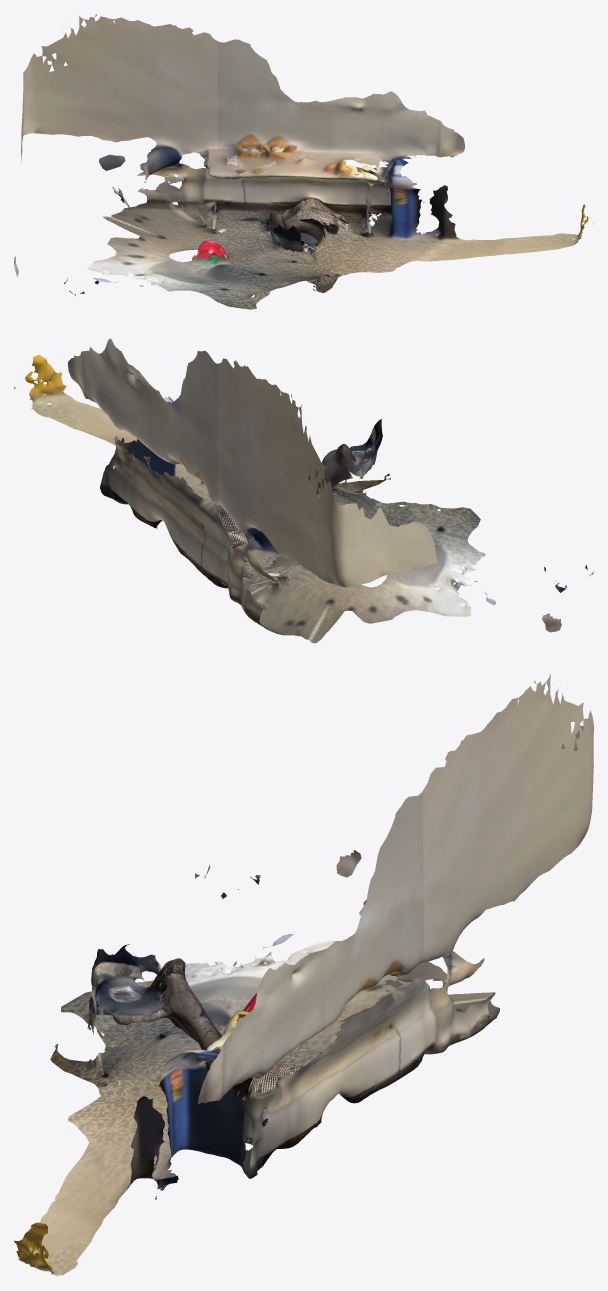
The model's file is Modelar-2022-Dec-16.obj.
3 views of the same model, one above another, from view 1: azimuth 30°, elevation 25°; view 2: azimuth 150°, elevation 25°; view 3: azimuth 270°, elevation 25° (orthographic). The views are drawn at different scales.
Parts seen in each view (by area): view 1: object 1, _1; view 2: object 1, _1; view 3: object 1, _1.
Part boxes in pixels (box(x1,y1,x2,y2)): object 1: box(14, 15, 593, 309); _1: box(67, 14, 583, 295); object 1: box(14, 338, 593, 643); _1: box(28, 347, 589, 642); object 1: box(14, 673, 593, 1273); _1: box(44, 680, 536, 1276).
Size of the model in its own units: 6.15 by 2.37 by 3.81.
Materials: 2 (2 with a texture image).
